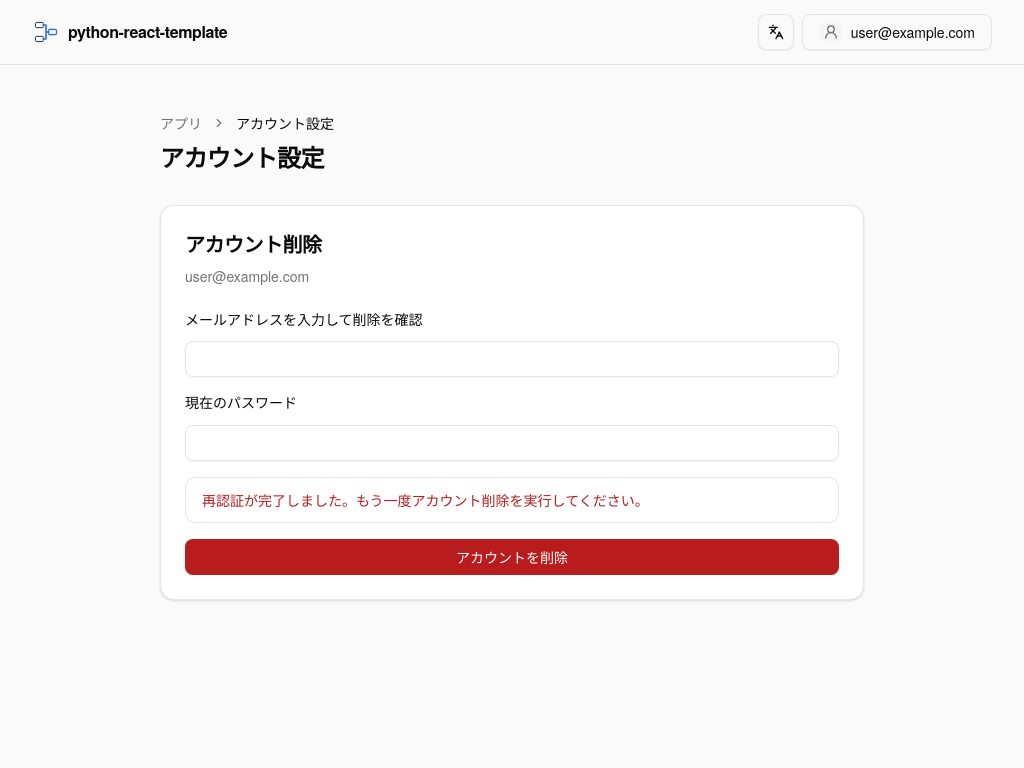
Test: /app/settings はフォーム編集後に OIDC query message を再表示しない
Expected: the message reads "再認証が完了しました。もう一度アカウント削除を実行してください。", [202,490,649,510]
Step 1. Type "user@example.com" into the field labelled "メールアドレスを入力して削除を確認" → (512, 359), box [185,341,839,377]
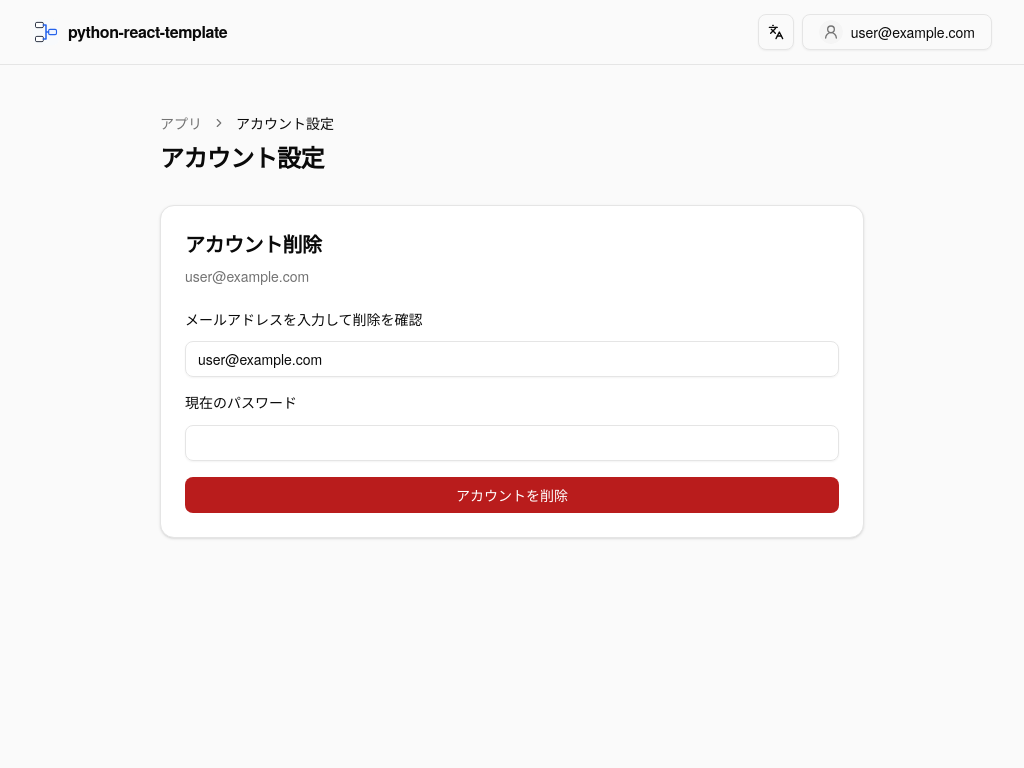
Expected: the message "再認証が完了しました。もう一度アカウント削除を実行してください。" is gone
